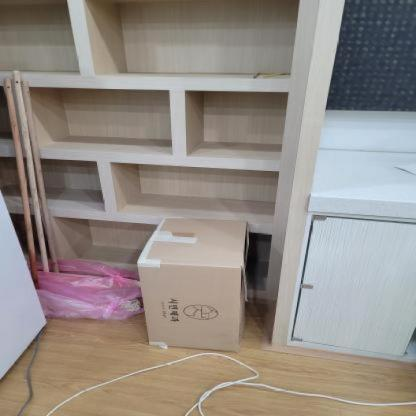-: (130, 208, 262, 360)
